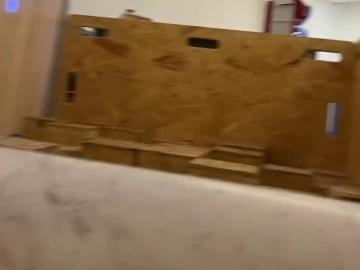curtain: (0, 0, 76, 162)
